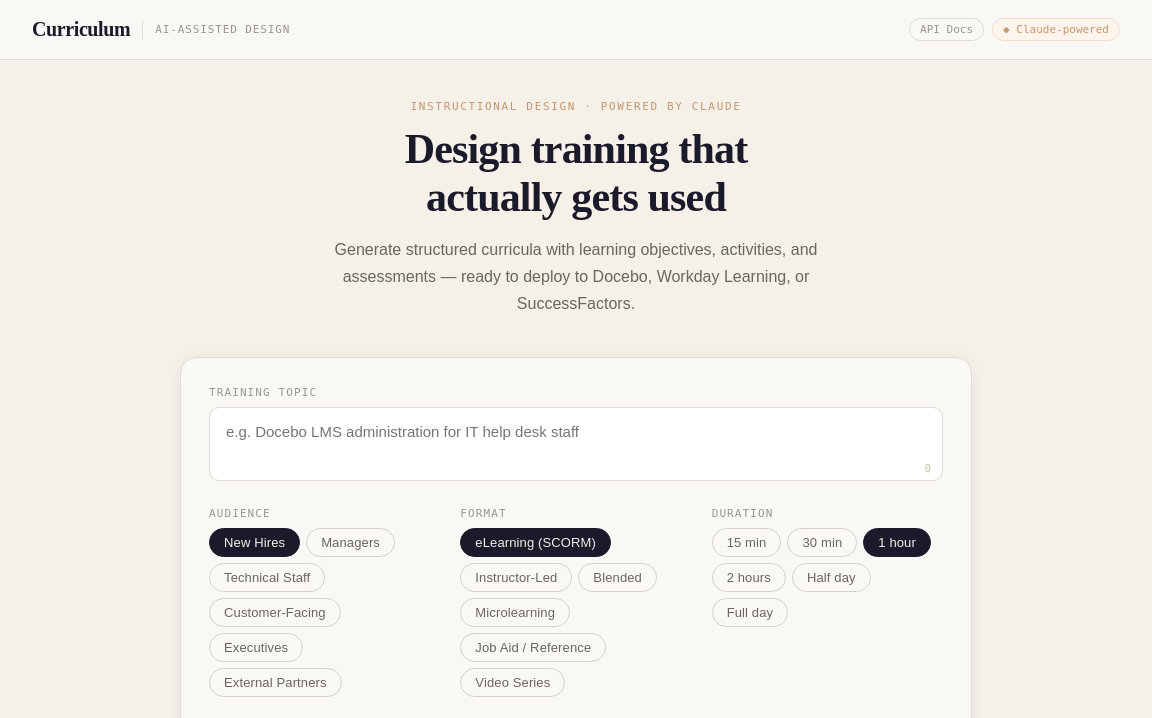
Test case: CurriculumBuilder › enables generate button when topic is entered
The width and height of the screenshot is (1152, 718).
Step 1. Type "Test topic" into the text box with placeholder "e.g. Docebo LMS administration for IT help desk staff" → (576, 444), box 209,407 -> 943,481
(page scrolled)
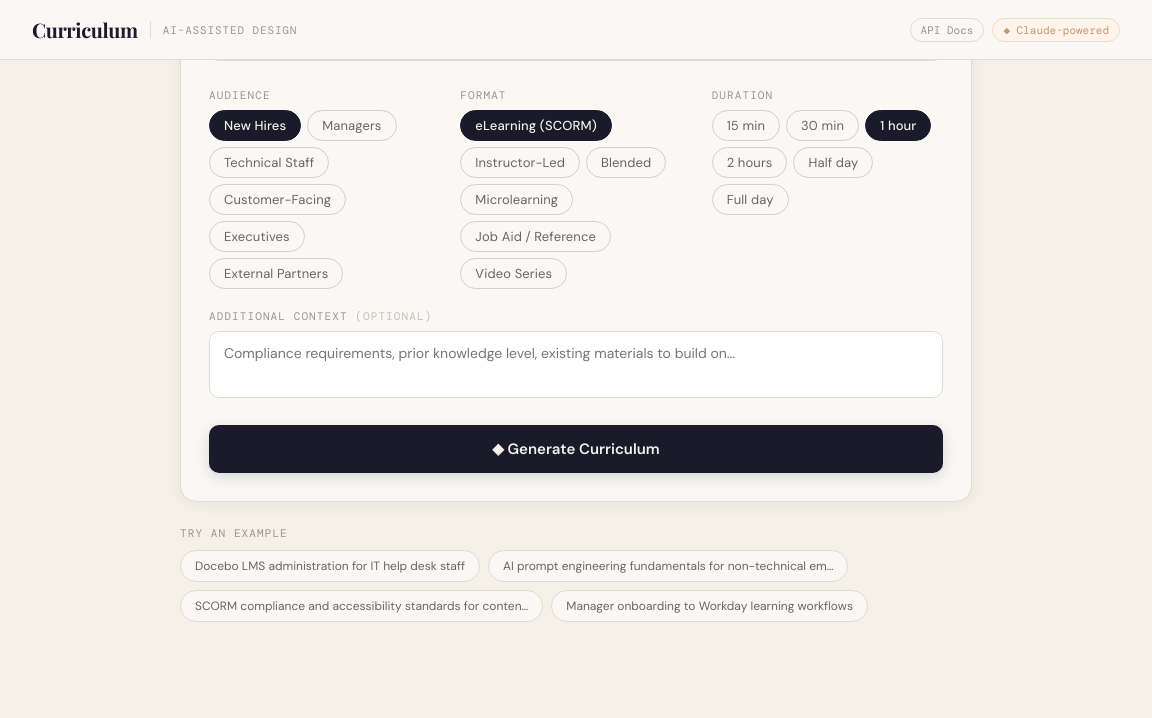
Check: the button "◆ Generate Curriculum" is enabled, box 209,425 -> 943,473
